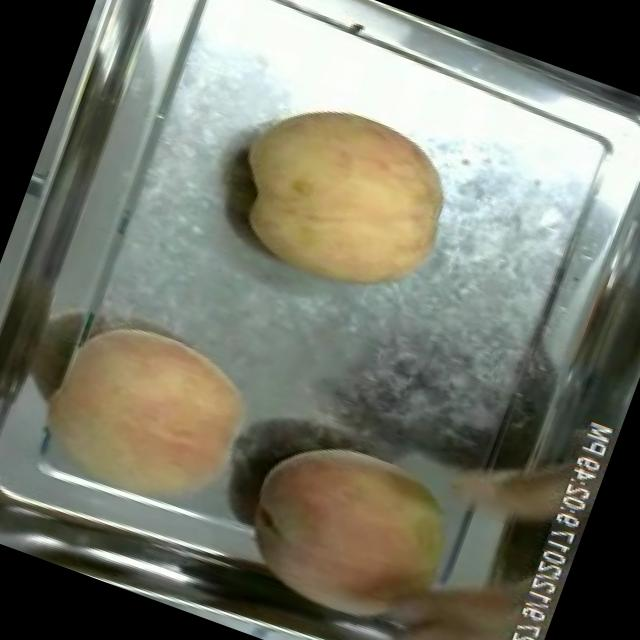Fruit: (12, 294, 280, 548), (212, 74, 479, 323), (214, 407, 487, 640)
